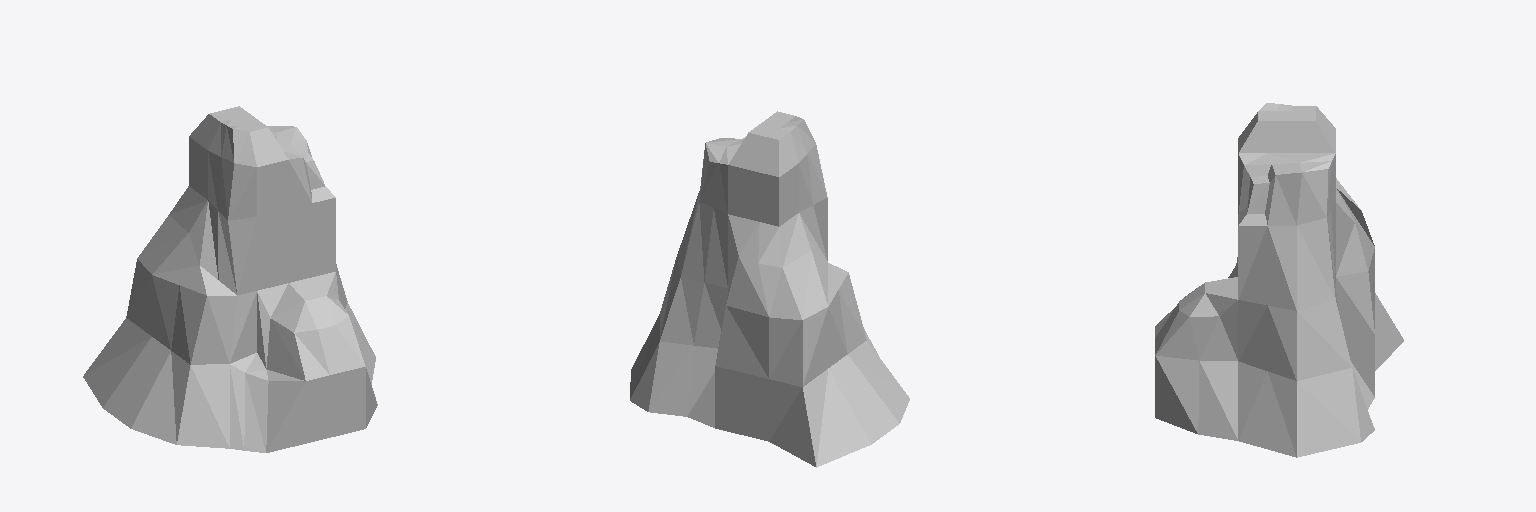
The model's file is rock_low1.obj.
3 views of the same model, side by side, from view 1: azimuth 30°, elevation 25°; view 2: azimuth 150°, elevation 25°; view 3: azimuth 270°, elevation 25° (orthographic).
Parts seen in each view (by area): view 1: pCube1; view 2: pCube1; view 3: pCube1.
Boxes of the visible parts, x1=… form: pCube1: x1=83, y1=106, x2=377, y2=452; pCube1: x1=630, y1=111, x2=909, y2=467; pCube1: x1=1155, y1=103, x2=1403, y2=457.
Bounding box in the file's own units: 45.54 × 47.07 × 38.25.